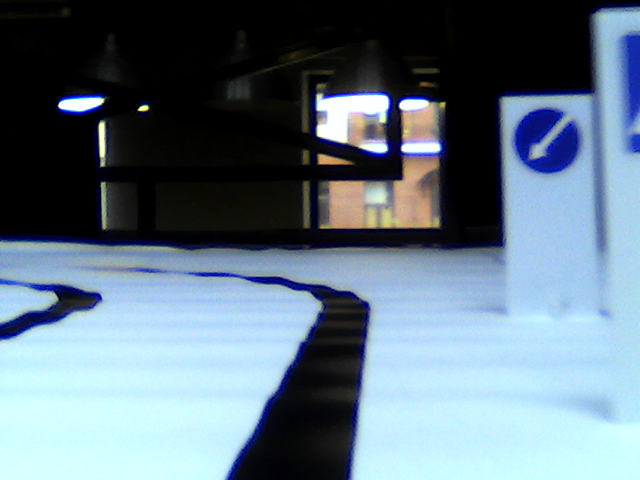prep: (512, 107, 581, 177)
